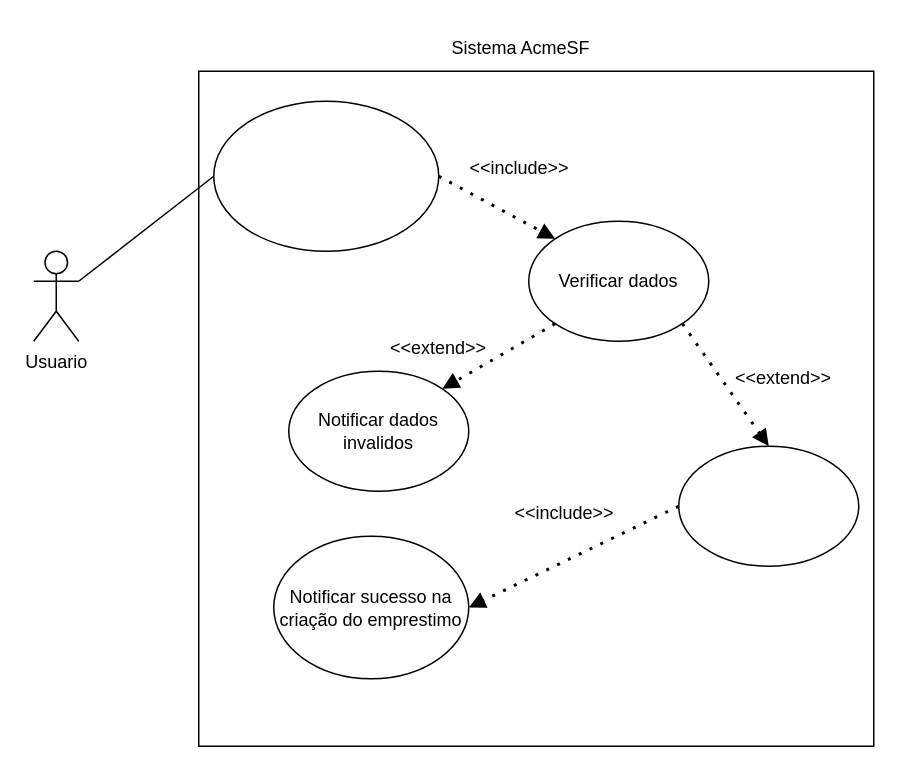
This 900x773 diagram has some shape labels left out. The centre of each missing label's shape, as x and y in pixels:
Criar Emprestimo: point (768, 505)
Insierir os dados do emprestimo e realiza a solicitação: point (325, 175)
